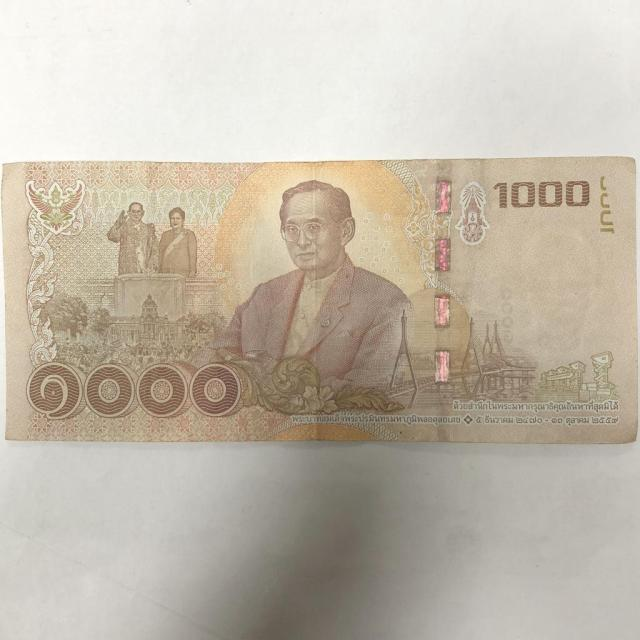THAI1000: (2, 157, 636, 443)
